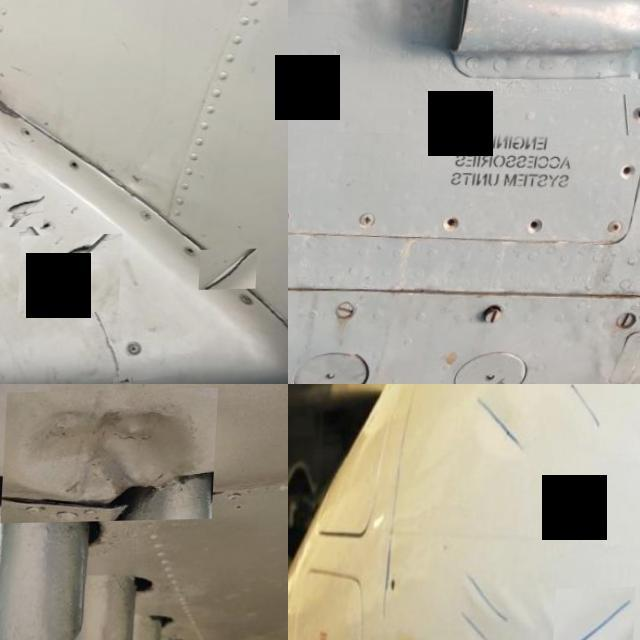Crack: (23, 234, 127, 314), (204, 251, 262, 292), (4, 194, 48, 228), (0, 87, 33, 122), (118, 378, 139, 384)
Dent: (5, 390, 221, 524), (566, 589, 638, 640), (476, 395, 525, 454), (459, 608, 502, 640)
Missing_Fastener: (435, 204, 478, 250), (518, 208, 559, 250), (613, 153, 640, 192), (288, 191, 309, 240), (621, 96, 640, 138), (71, 160, 84, 172), (188, 248, 201, 258), (24, 128, 36, 138), (44, 222, 58, 230)
